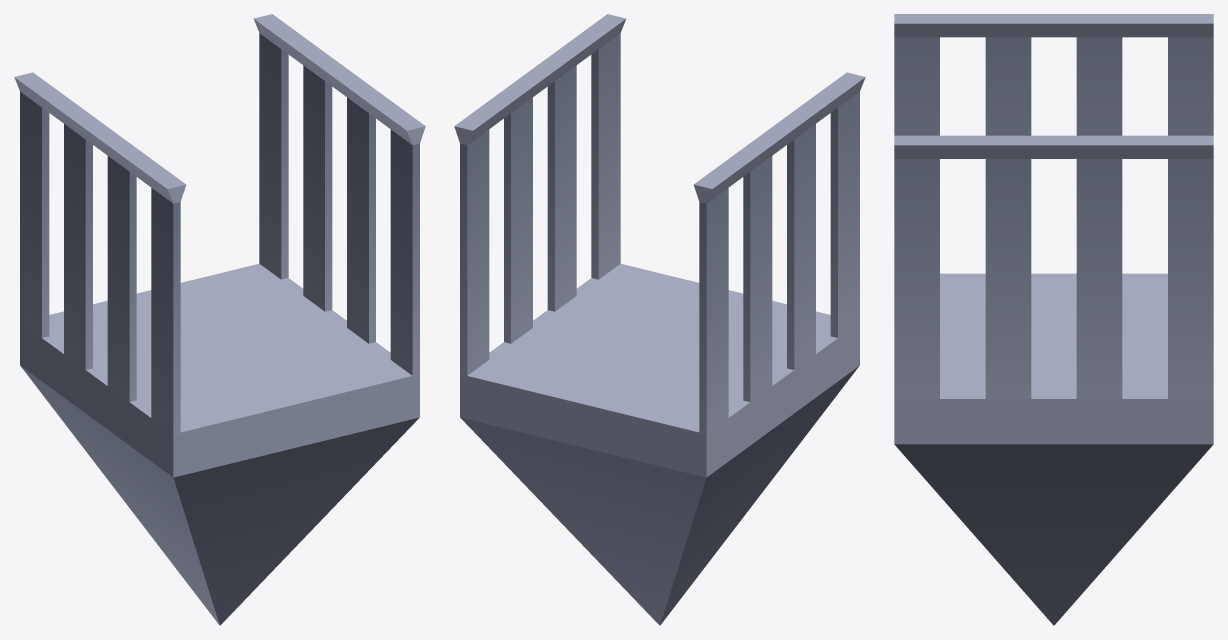
The model's file is Fbx_GateBlock.fbx.
3 renders of one model, left to right at view 1: azimuth 30°, elevation 25°; view 2: azimuth 150°, elevation 25°; view 3: azimuth 270°, elevation 25°, orthographic. The views are drawn at different scales.
Parts seen in each view (by area): view 1: GateBlock; view 2: GateBlock; view 3: GateBlock.
Boxes of the visible parts, x1,y1,x2,y2 form: GateBlock: (14,14,425,625); GateBlock: (454,14,865,625); GateBlock: (894,14,1213,625).
Bounding box in the file's own units: 0.9721 × 1.89 × 1.
Materials: 1 (1 with a texture image).
